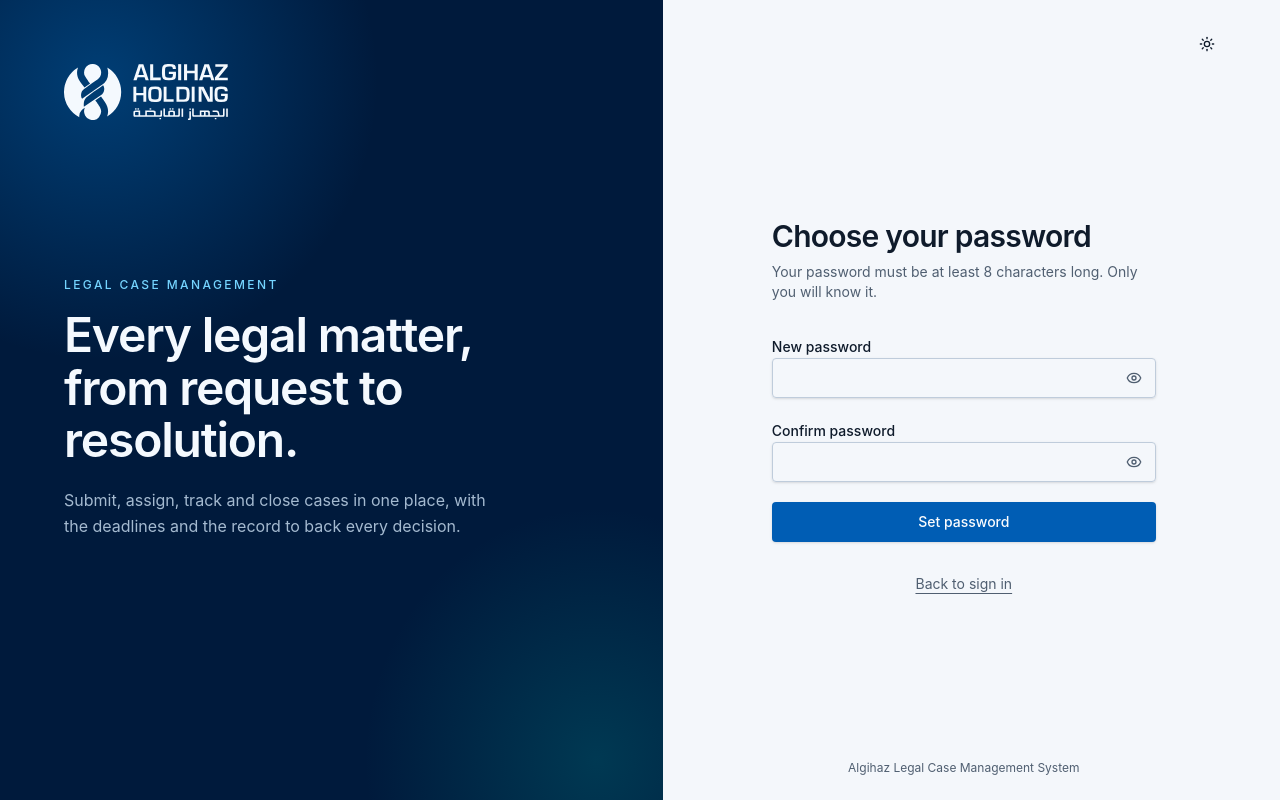
Test: SetPasswordPage › keeps the form and says so when the server cannot be reached
This screenshot has width=1280, height=800.
Expected: the heading "Choose your password" is shown, [772,218,1091,254]
Type "LongEnough#1" into the password field labelled "New password" at (964, 378), box [772,358,1156,398]
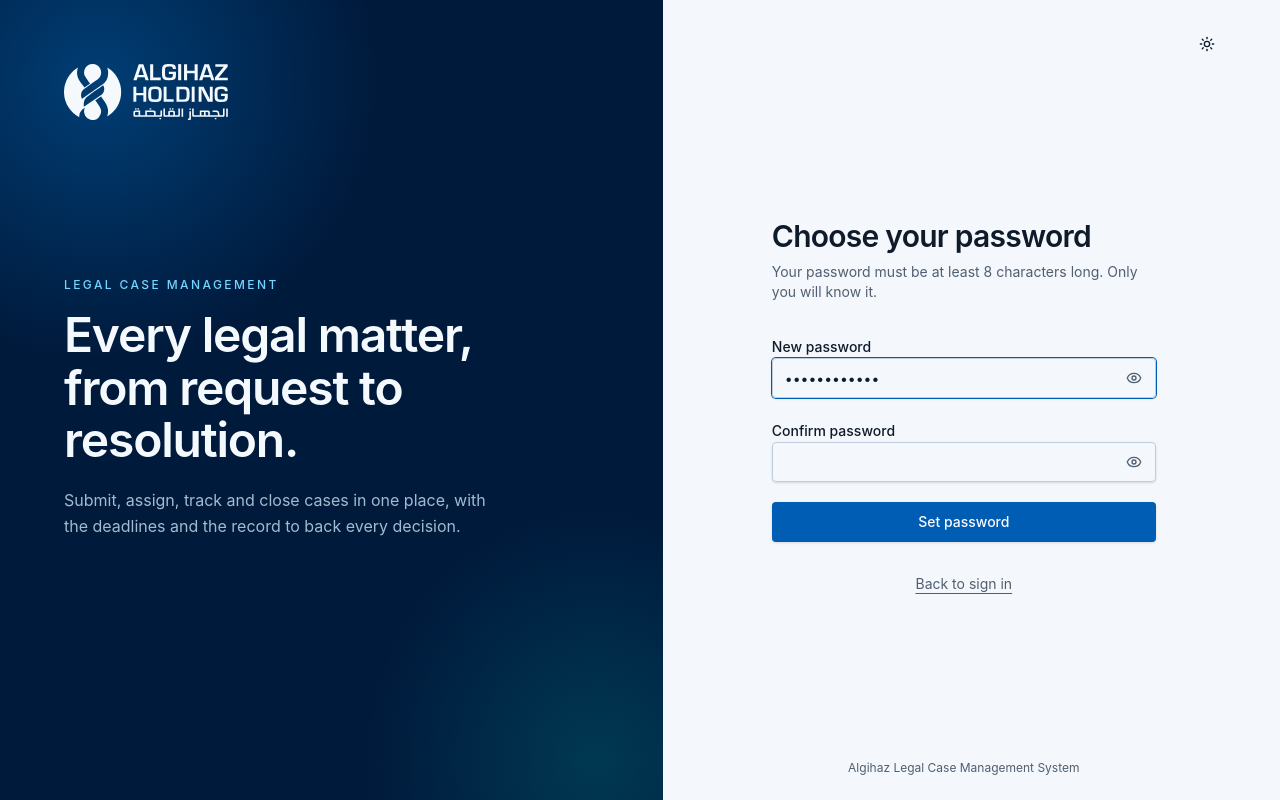
Type "LongEnough#1" into the password field labelled "Confirm password" at (964, 462), box [772,442,1156,482]
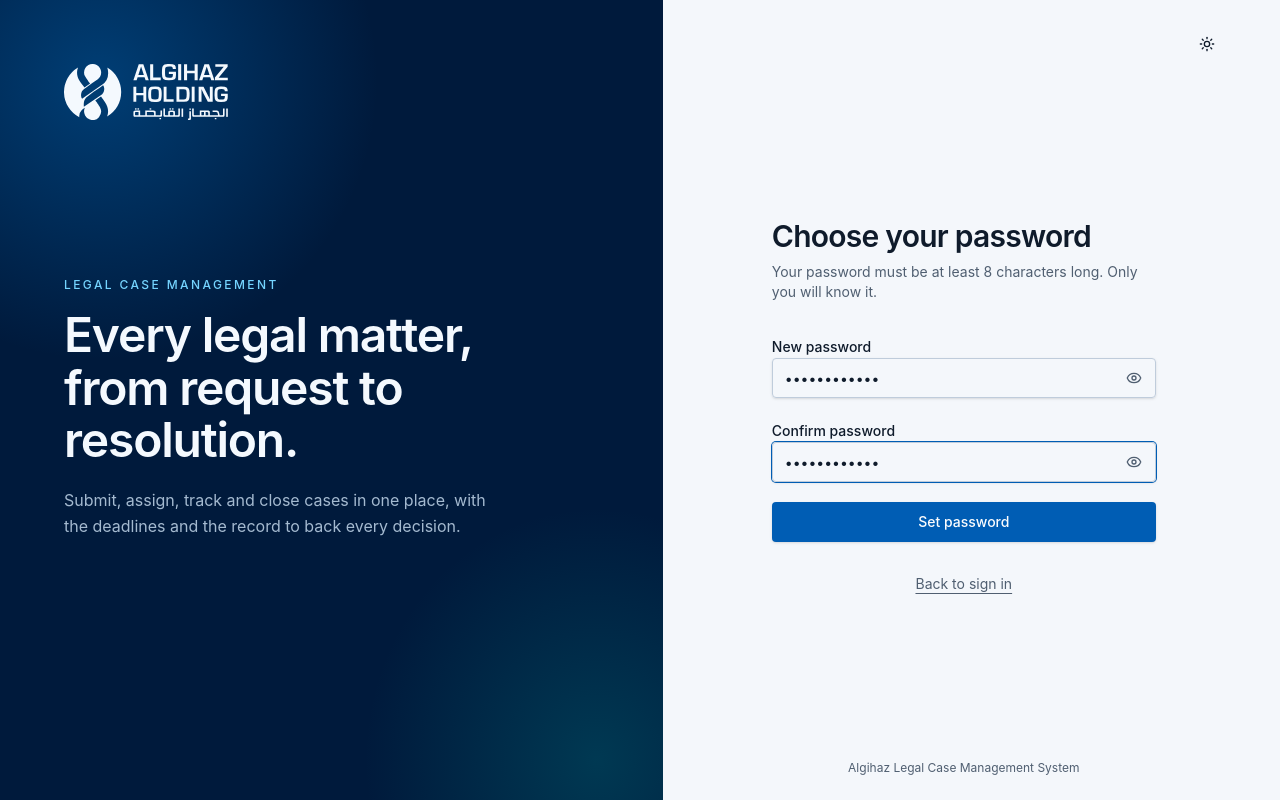
Click the button "Set password" at (964, 522), box [772,502,1156,542]
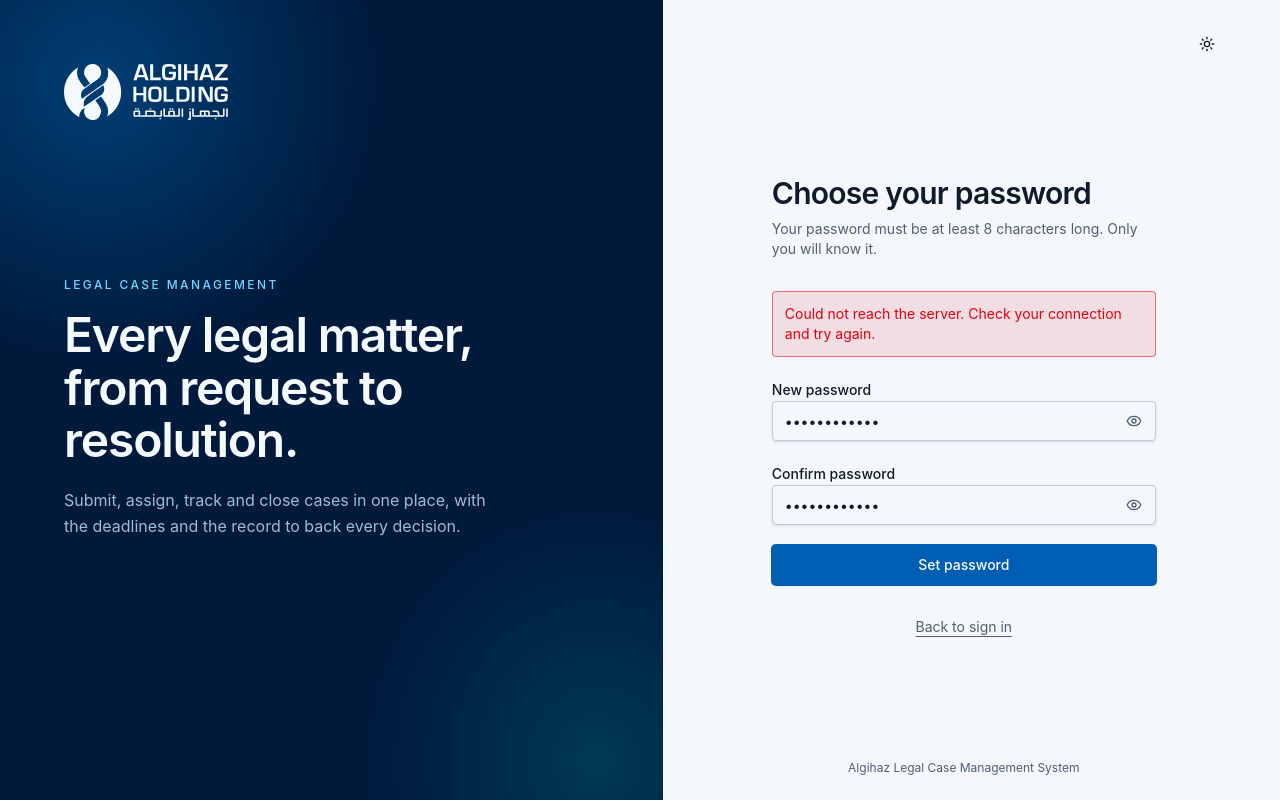
Expected: the message shows "Could not reach the server", [785,305,1122,342]
